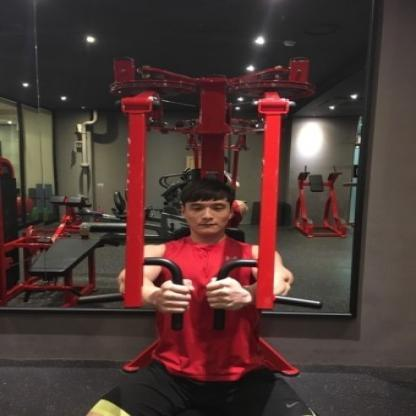chest fly machine: (34, 38, 415, 416)
